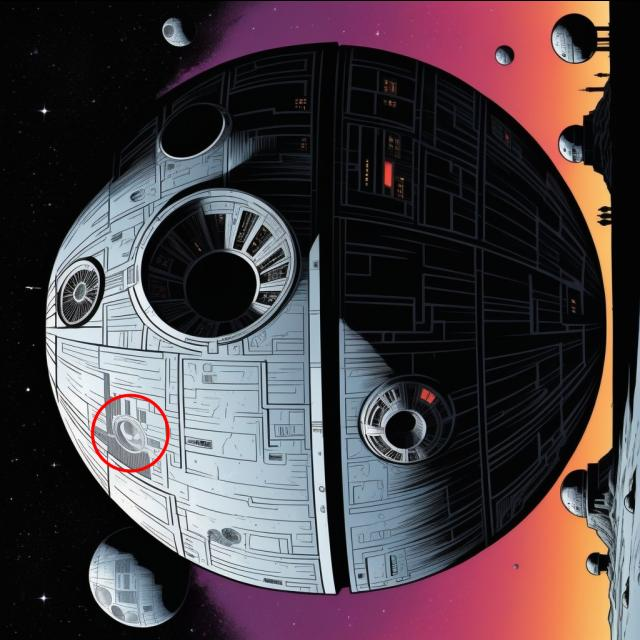Death-star: (46, 39, 611, 594)
